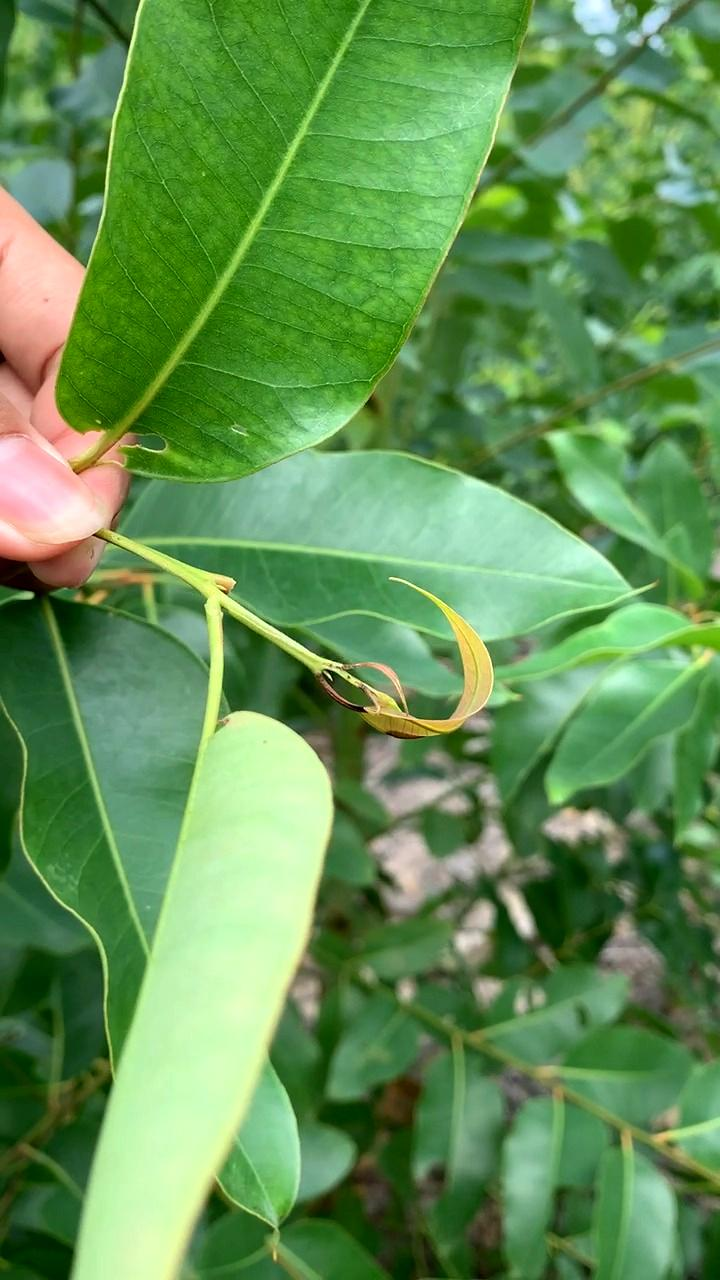Helopeltis-Withered Sprout: (319, 571, 513, 765)
